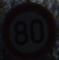Speed Limit -80-: (0, 0, 58, 59)
